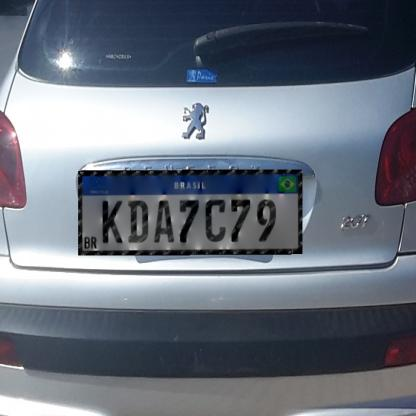PlacaM: (78, 170, 303, 256)
